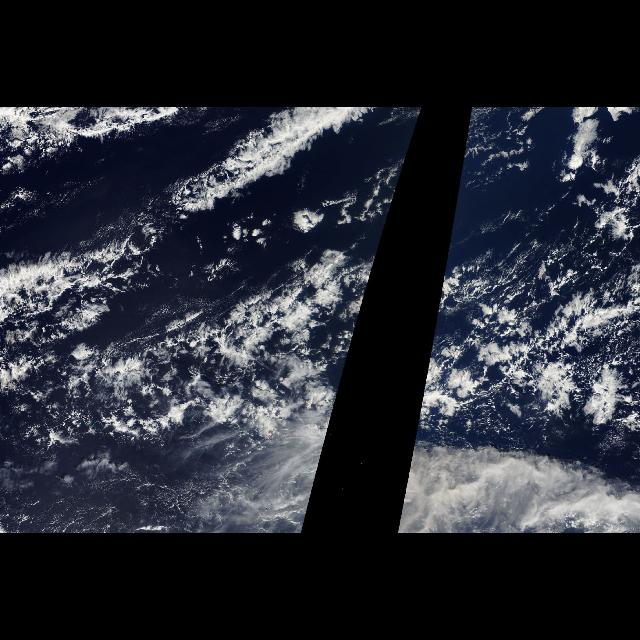Fish: (2, 108, 394, 448)
Gravel: (449, 192, 639, 446), (31, 302, 337, 448)
